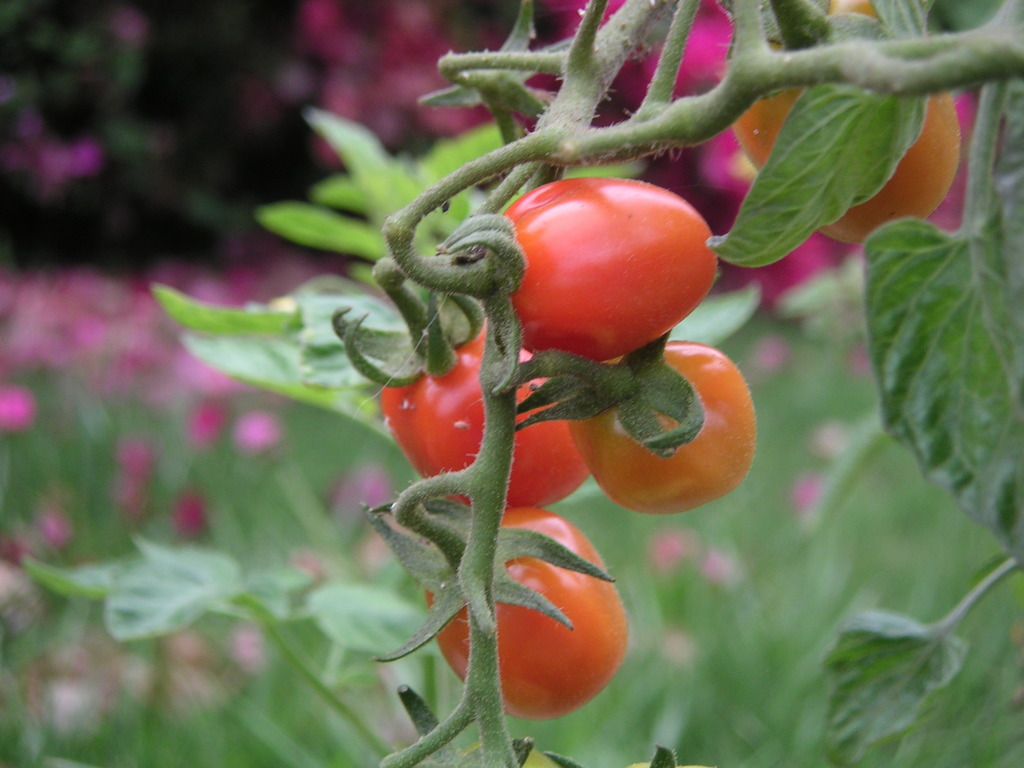Tomato: (739, 0, 962, 259), (433, 172, 717, 357), (382, 314, 602, 515), (425, 506, 626, 716), (568, 334, 761, 514)
